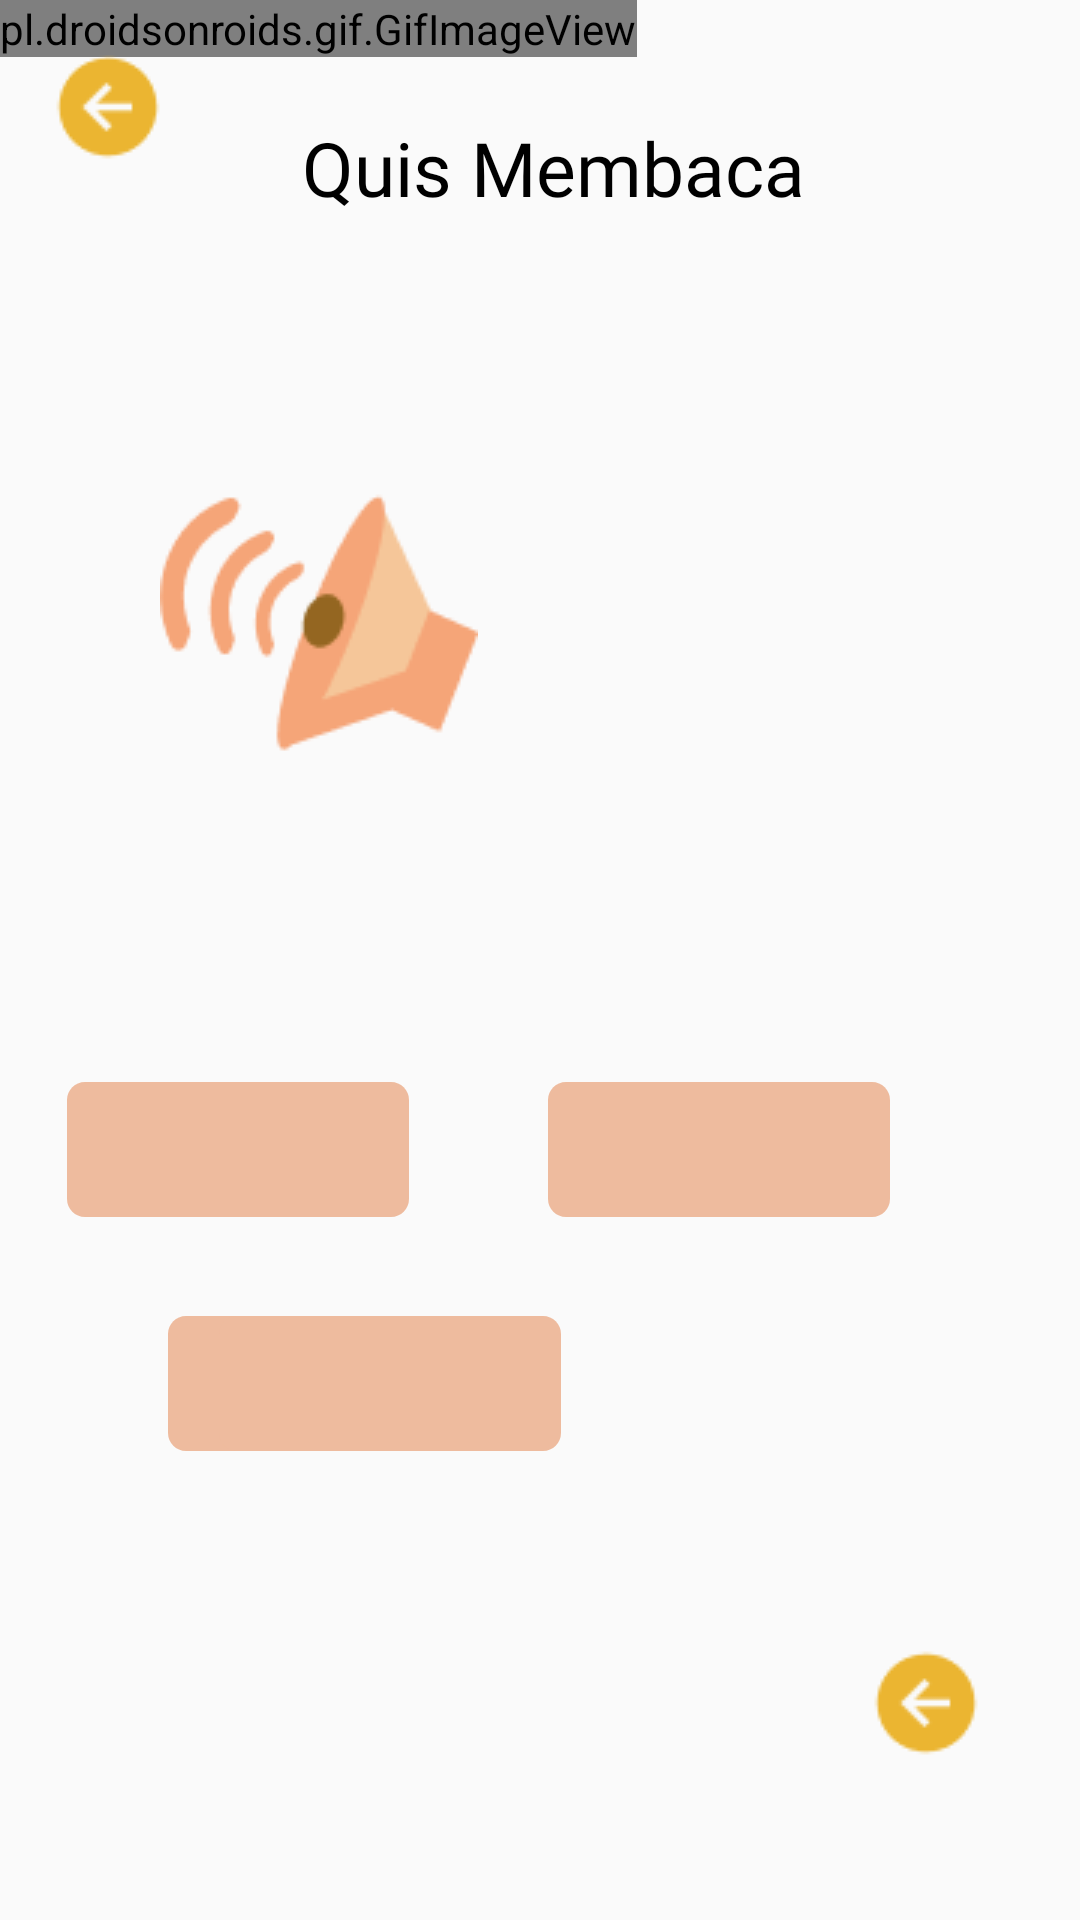

Icons on this 1080 x 1920 Android screen, each with its box as (x1, y1, x2, y2):
keluar: (48, 47, 168, 158), (875, 1652, 977, 1754)
sound: (160, 496, 478, 751)
